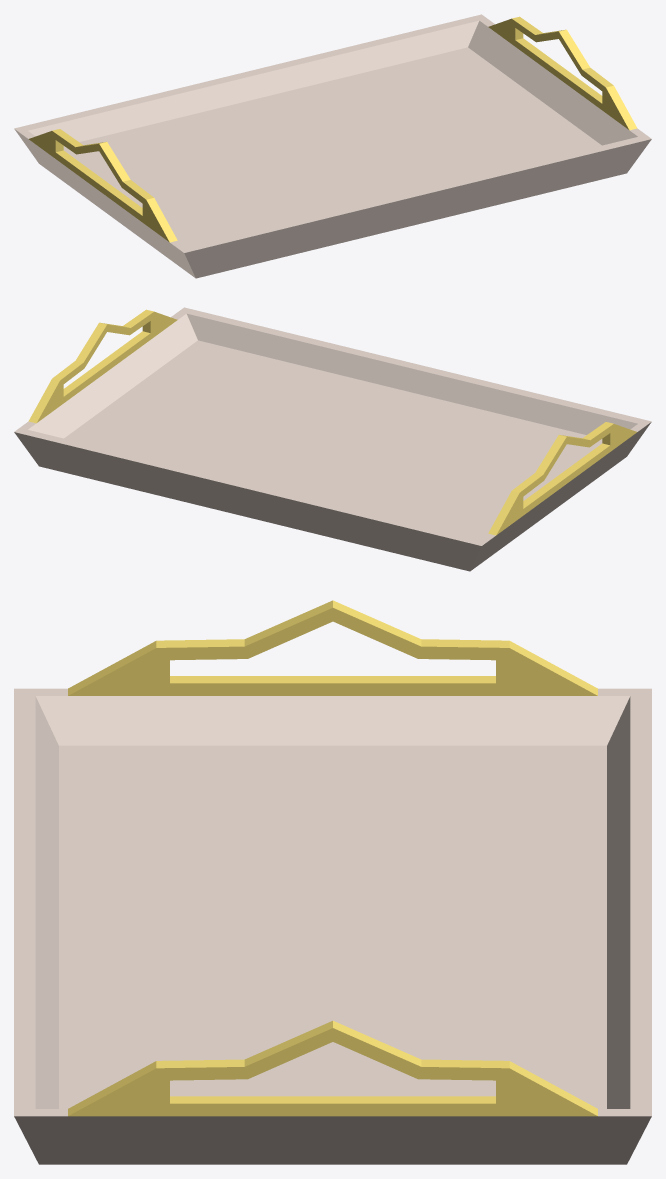
The model's file is Tray.fbx.
3 renders of one model, top to bottom at view 1: azimuth 30°, elevation 25°; view 2: azimuth 150°, elevation 25°; view 3: azimuth 270°, elevation 25°, orthographic. The views are drawn at different scales.
Visible parts, largest first — view 1: Tray; view 2: Tray; view 3: Tray.
Part boxes in pixels (x1,y1,x2,y2): Tray: (14, 14, 651, 278); Tray: (14, 307, 651, 571); Tray: (14, 600, 651, 1164).
Bounding box in the file's own units: 37.13 × 23.41 × 6.21.
